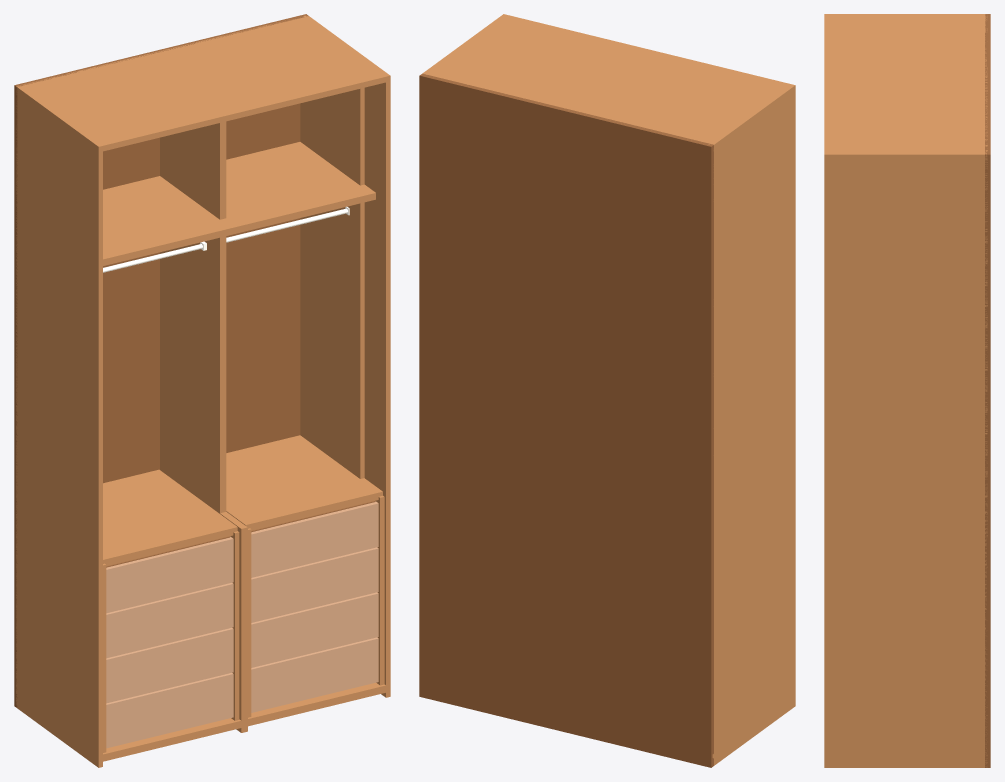
The model's file is double-open-wardrobe-lite.glb.
3 renders of one model, left to right at view 1: azimuth 30°, elevation 25°; view 2: azimuth 150°, elevation 25°; view 3: azimuth 270°, elevation 25°, orthographic.
Parts seen in each view (by area): view 1: structure-assembly; view 2: structure-assembly; view 3: structure-assembly.
Boxes of the visible parts, <box> form: structure-assembly: <box>14,14,390,767</box>; structure-assembly: <box>419,14,795,767</box>; structure-assembly: <box>824,14,990,767</box>.
Bounding box in the file's own units: 1.18 × 2.4 × 0.59.
